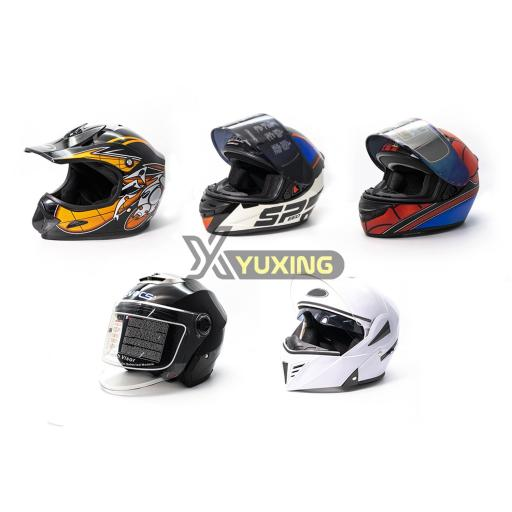helmet-detection: (76, 263, 250, 411), (20, 102, 170, 252), (269, 264, 414, 414), (358, 99, 498, 249), (190, 105, 340, 242)
